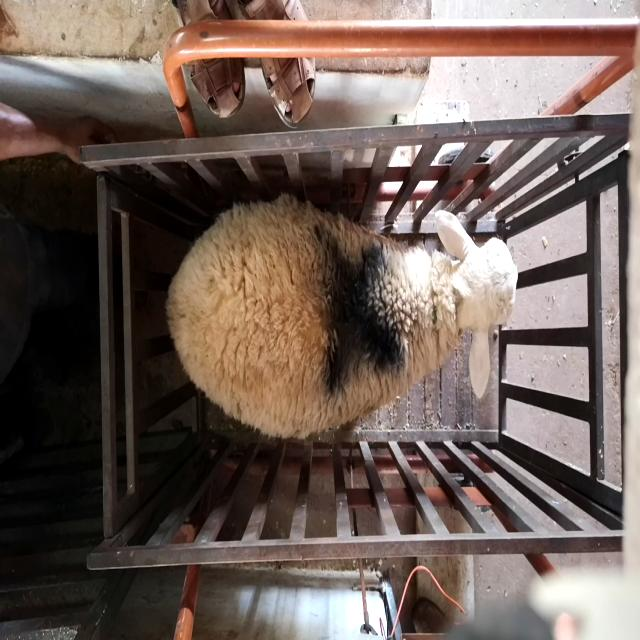sheep: (165, 191, 519, 439)
